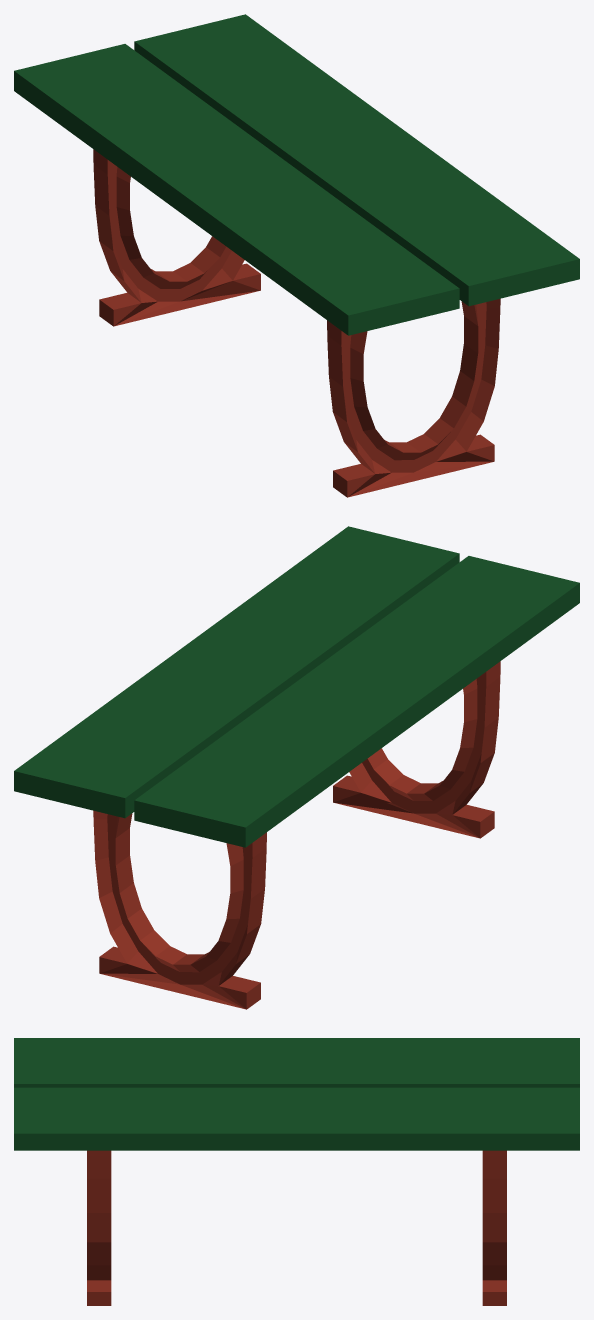
File: Bench_Without_Back.fbx
3 renders of one model, top to bottom at view 1: azimuth 30°, elevation 25°; view 2: azimuth 150°, elevation 25°; view 3: azimuth 270°, elevation 25°, orthographic. The views are drawn at different scales.
Parts seen in each view (by area): view 1: Cube; view 2: Cube; view 3: Cube.
Part boxes in pixels (x1=…): Cube: x1=14, y1=14, x2=579, y2=497; Cube: x1=14, y1=526, x2=579, y2=1009; Cube: x1=14, y1=1038, x2=579, y2=1305.
Size of the model in its own units: 60 by 55.44 by 150.
